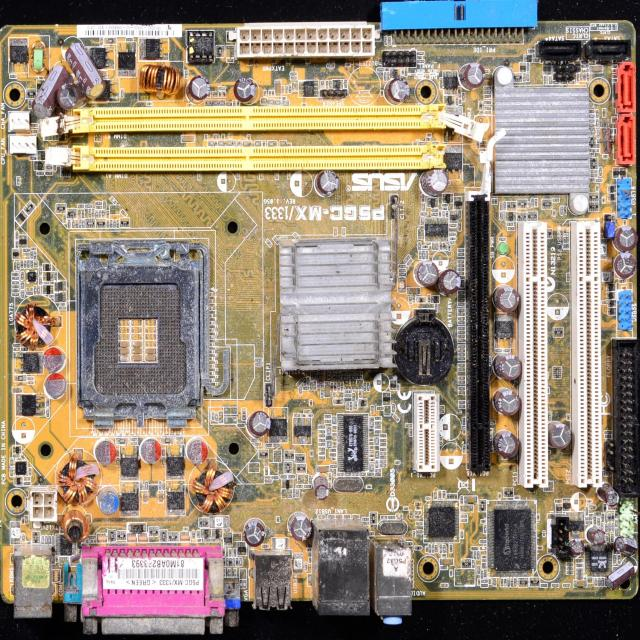Capacitor Jumper: (441, 558, 454, 566), (463, 496, 477, 503), (572, 580, 586, 586), (591, 65, 603, 72), (407, 287, 421, 293), (392, 414, 400, 422), (293, 230, 300, 239), (12, 387, 23, 392), (341, 226, 346, 236), (219, 411, 223, 423), (272, 236, 278, 244), (457, 320, 465, 326), (456, 380, 465, 385), (551, 582, 560, 587), (289, 75, 298, 80), (336, 514, 343, 520), (458, 352, 466, 357), (458, 386, 466, 391), (404, 423, 412, 428), (415, 521, 423, 526), (460, 529, 464, 539), (576, 558, 584, 563), (461, 92, 465, 102), (246, 133, 251, 141), (590, 169, 598, 174), (333, 227, 338, 235), (457, 363, 466, 367), (28, 467, 32, 476), (438, 489, 442, 498), (276, 515, 280, 524), (239, 556, 242, 568), (25, 287, 34, 291), (577, 572, 584, 577), (484, 86, 491, 91), (232, 556, 235, 567), (458, 375, 466, 379), (375, 460, 379, 468), (460, 514, 468, 518), (259, 172, 263, 180), (456, 260, 464, 264), (457, 326, 465, 330), (458, 338, 466, 342), (215, 412, 218, 422), (338, 472, 344, 477), (434, 489, 437, 499), (435, 543, 438, 553), (526, 72, 529, 82), (457, 252, 463, 257), (458, 357, 465, 361), (309, 399, 313, 406), (24, 477, 31, 481), (328, 515, 335, 519), (344, 515, 351, 519), (352, 515, 359, 519), (566, 559, 573, 563), (566, 567, 573, 571), (576, 568, 583, 572), (566, 571, 573, 575), (344, 63, 351, 67), (236, 172, 240, 179), (590, 174, 597, 178), (457, 248, 464, 252), (457, 267, 464, 271), (12, 272, 19, 276), (458, 272, 465, 276), (458, 290, 465, 294), (457, 298, 464, 302), (458, 304, 465, 308), (458, 330, 465, 334), (458, 334, 465, 338), (13, 348, 20, 352), (458, 348, 465, 352), (428, 544, 431, 553), (443, 544, 446, 553), (594, 578, 597, 587), (580, 73, 583, 82), (612, 212, 615, 221), (456, 264, 465, 267), (456, 308, 465, 311), (28, 376, 34, 380), (458, 400, 466, 403), (457, 405, 465, 408), (438, 406, 444, 410), (176, 442, 184, 445), (130, 442, 138, 445), (10, 458, 13, 466), (366, 485, 372, 489), (403, 506, 409, 510), (415, 511, 423, 514), (380, 516, 388, 519), (243, 580, 246, 588), (441, 584, 449, 587), (327, 60, 335, 63), (582, 64, 588, 68), (218, 87, 226, 90), (603, 108, 606, 116), (589, 114, 595, 118), (588, 119, 594, 123), (595, 118, 598, 126), (204, 134, 208, 140), (275, 171, 278, 179), (198, 172, 201, 180), (457, 313, 465, 316), (438, 410, 445, 413), (13, 454, 20, 457), (380, 460, 387, 463), (10, 469, 13, 476), (318, 515, 325, 518), (583, 73, 586, 80), (484, 95, 491, 98), (12, 285, 19, 288), (12, 289, 19, 292), (212, 410, 214, 420), (274, 444, 279, 448), (440, 544, 442, 554), (226, 556, 228, 566), (456, 96, 458, 106), (589, 123, 594, 127), (212, 134, 216, 139), (346, 402, 348, 411), (380, 452, 386, 455), (396, 514, 402, 517), (226, 102, 232, 105), (288, 171, 290, 180), (458, 317, 464, 320), (458, 345, 464, 348), (458, 392, 466, 394), (21, 455, 25, 459), (379, 464, 387, 466), (432, 545, 434, 553), (234, 569, 236, 577), (228, 569, 230, 577), (240, 580, 242, 588), (550, 76, 552, 84), (222, 132, 224, 140), (436, 242, 438, 250), (353, 473, 358, 476), (426, 497, 431, 500), (458, 368, 465, 370), (460, 520, 467, 522), (425, 546, 427, 553), (566, 564, 573, 566), (576, 564, 583, 566), (484, 91, 491, 93), (218, 133, 220, 140), (458, 296, 465, 298), (28, 382, 34, 384), (230, 133, 232, 139), (376, 470, 380, 472)
Connector: (584, 40, 628, 60), (535, 41, 582, 59)
IC: (489, 501, 535, 576), (338, 414, 370, 470), (86, 46, 114, 70), (139, 38, 168, 60), (56, 534, 77, 556), (26, 269, 38, 285), (54, 281, 67, 292), (55, 293, 66, 302)
Resistor Jumper: (189, 75, 210, 100), (162, 438, 173, 444), (118, 438, 127, 444), (316, 446, 326, 451), (559, 204, 563, 216), (367, 530, 374, 536), (449, 222, 456, 228), (318, 424, 326, 429), (374, 429, 382, 434), (264, 443, 272, 448), (158, 480, 162, 490), (28, 100, 32, 110), (458, 222, 462, 232), (398, 264, 408, 268), (314, 371, 318, 380), (328, 372, 332, 381), (46, 408, 50, 417), (228, 558, 232, 567), (304, 562, 308, 571), (478, 102, 482, 111), (599, 166, 602, 178), (398, 273, 407, 277), (345, 389, 352, 394), (392, 404, 396, 412), (318, 439, 326, 443), (484, 525, 488, 533), (40, 536, 44, 544), (86, 539, 94, 543), (478, 540, 486, 544), (261, 544, 269, 548), (449, 543, 453, 551), (290, 71, 298, 75), (586, 73, 590, 81), (421, 202, 425, 210), (22, 248, 30, 252), (341, 381, 344, 391), (145, 480, 148, 490), (162, 480, 165, 490), (192, 530, 195, 540), (48, 535, 51, 545), (223, 557, 226, 567), (292, 81, 295, 91), (485, 100, 491, 105), (420, 211, 426, 216), (426, 250, 429, 260), (333, 374, 337, 381), (318, 429, 325, 433), (380, 439, 387, 443), (380, 444, 387, 448), (318, 451, 325, 455), (589, 505, 596, 509), (362, 517, 369, 521), (417, 59, 424, 63), (10, 75, 17, 79), (31, 124, 38, 128), (85, 204, 92, 208), (441, 207, 448, 211), (12, 292, 19, 296), (13, 343, 20, 347), (140, 481, 143, 490), (45, 535, 48, 544), (288, 84, 291, 93), (500, 211, 503, 220), (17, 262, 20, 271), (37, 285, 40, 294), (356, 371, 362, 375), (348, 372, 354, 376), (311, 372, 314, 380), (348, 376, 354, 380), (46, 398, 49, 406), (374, 422, 382, 425), (317, 434, 325, 437), (318, 442, 324, 446), (318, 457, 326, 460), (330, 464, 336, 468), (360, 472, 366, 476), (293, 489, 296, 497), (460, 495, 463, 503), (603, 504, 606, 512), (614, 521, 618, 527), (418, 51, 424, 55), (615, 528, 618, 536), (611, 534, 614, 542), (52, 534, 54, 546), (414, 546, 422, 549), (602, 576, 604, 588), (510, 578, 513, 586), (327, 65, 335, 68), (30, 130, 38, 133), (36, 172, 44, 175), (17, 177, 20, 185), (422, 194, 425, 202), (503, 201, 506, 209), (442, 203, 448, 207), (102, 210, 105, 218), (430, 213, 438, 216), (446, 211, 449, 219), (442, 241, 445, 249), (24, 260, 27, 268), (12, 277, 20, 280), (21, 290, 24, 298), (598, 576, 600, 587), (317, 381, 324, 384), (317, 385, 324, 388), (608, 523, 611, 530), (617, 556, 620, 563), (534, 58, 541, 61), (484, 107, 491, 110), (29, 156, 36, 159), (45, 172, 52, 175), (95, 202, 102, 205), (449, 237, 456, 240), (31, 260, 34, 267), (21, 282, 24, 289), (21, 348, 28, 351), (307, 376, 309, 386), (25, 482, 30, 486), (612, 512, 614, 522), (236, 558, 238, 568), (459, 210, 461, 220), (419, 241, 421, 251), (398, 270, 408, 272), (22, 271, 24, 281), (34, 285, 36, 295), (341, 372, 347, 375), (356, 376, 362, 379), (341, 377, 347, 380), (367, 382, 369, 391), (338, 382, 340, 391), (364, 382, 366, 391), (334, 382, 336, 391), (377, 407, 383, 410), (376, 416, 382, 419), (329, 472, 331, 481), (586, 507, 588, 516), (609, 512, 611, 521), (602, 522, 604, 531), (605, 522, 607, 531), (614, 555, 616, 564), (247, 63, 253, 66), (268, 90, 271, 96), (237, 100, 240, 106), (98, 209, 100, 218), (16, 231, 18, 240), (423, 250, 425, 259), (33, 252, 36, 258), (21, 259, 23, 268), (28, 259, 30, 268), (60, 303, 66, 306), (331, 384, 333, 392), (598, 518, 600, 526), (596, 110, 598, 118), (89, 210, 91, 218), (96, 210, 98, 218), (68, 220, 70, 228), (72, 220, 74, 228), (419, 252, 421, 260), (11, 282, 19, 284), (586, 517, 591, 520), (31, 247, 36, 250), (304, 378, 306, 385), (314, 382, 316, 389), (380, 435, 387, 437), (176, 438, 183, 440), (384, 73, 386, 80), (16, 241, 18, 248), (448, 243, 450, 250), (55, 272, 57, 279), (26, 292, 33, 294), (376, 426, 382, 428), (272, 90, 274, 96), (264, 90, 266, 96), (233, 100, 235, 106), (31, 252, 33, 258), (43, 282, 49, 284)
Transistor: (15, 460, 28, 475), (14, 212, 28, 223), (42, 271, 54, 281), (42, 285, 54, 295), (444, 95, 454, 106), (454, 196, 462, 209), (20, 235, 28, 248), (382, 393, 391, 404), (563, 499, 572, 510), (450, 210, 458, 222), (12, 445, 22, 454), (34, 161, 44, 170), (443, 194, 453, 203), (427, 198, 436, 208), (14, 477, 23, 485), (607, 300, 616, 308), (12, 249, 19, 259), (605, 292, 615, 299), (42, 264, 52, 270), (555, 504, 562, 512), (606, 284, 614, 291), (607, 309, 616, 315)
